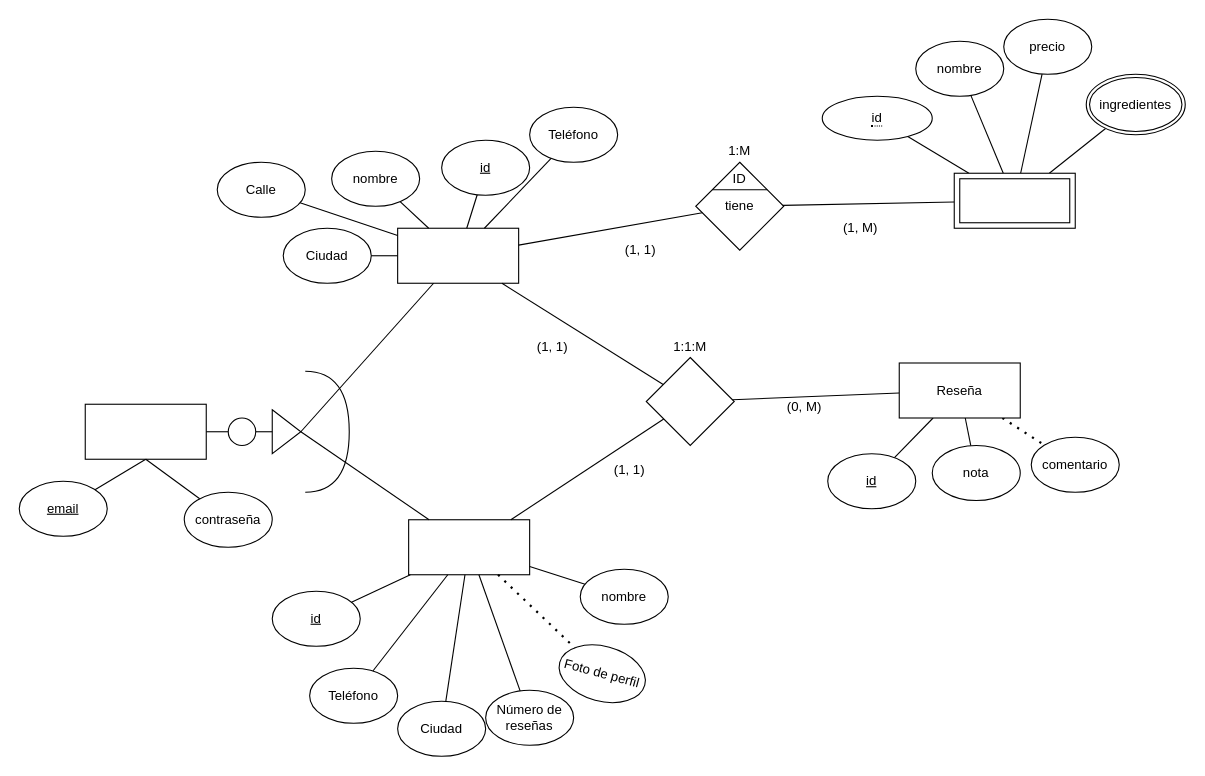
Image size: 1205x776. Some labels were removed from this diagram. Each missing label, with the centre of its shape:
Cliente: the point at 469,547
escribe: the point at 689,401
Plato: the point at 1014,200
Restaurante: the point at 458,255
Usuario: the point at 145,431
